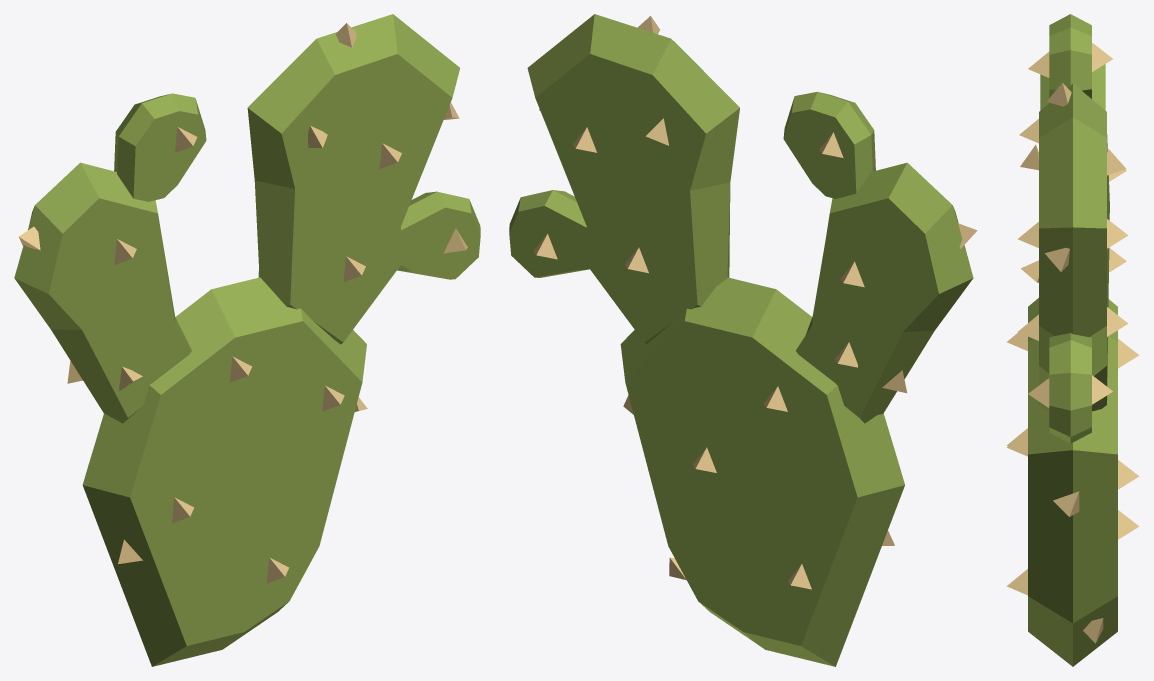
Rendered from Desert_Cactus1.fbx.
The picture shows the model from 3 angles, left to right: view 1: azimuth 30°, elevation 25°; view 2: azimuth 150°, elevation 25°; view 3: azimuth 270°, elevation 25°; orthographic projection. The views are drawn at different scales.
Visible parts, largest first — view 1: Kaktus3; view 2: Kaktus3; view 3: Kaktus3.
Part boxes in pixels (x1,y1,x2,y2): Kaktus3: (14, 14, 480, 666); Kaktus3: (509, 14, 977, 666); Kaktus3: (1006, 14, 1139, 666).
Size of the model in its own units: 517 by 639 by 120.
